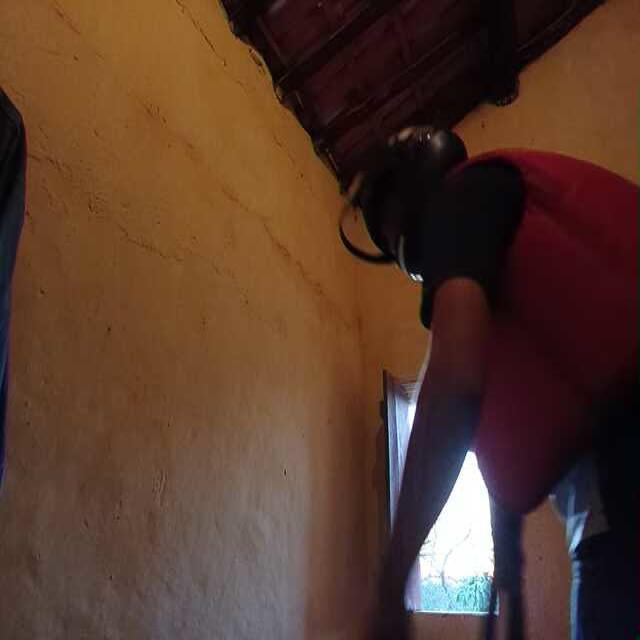capacete: (351, 125, 458, 263)
colete: (453, 145, 640, 510)
pessoa: (377, 148, 640, 640)
